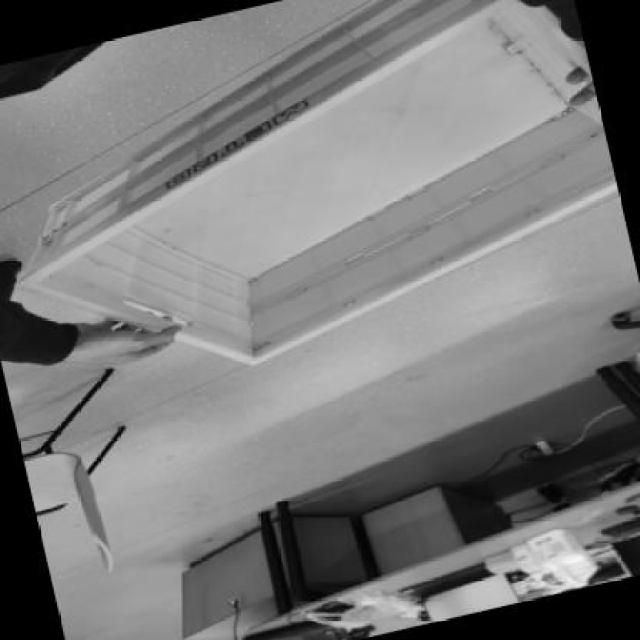box: (0, 0, 640, 425)
